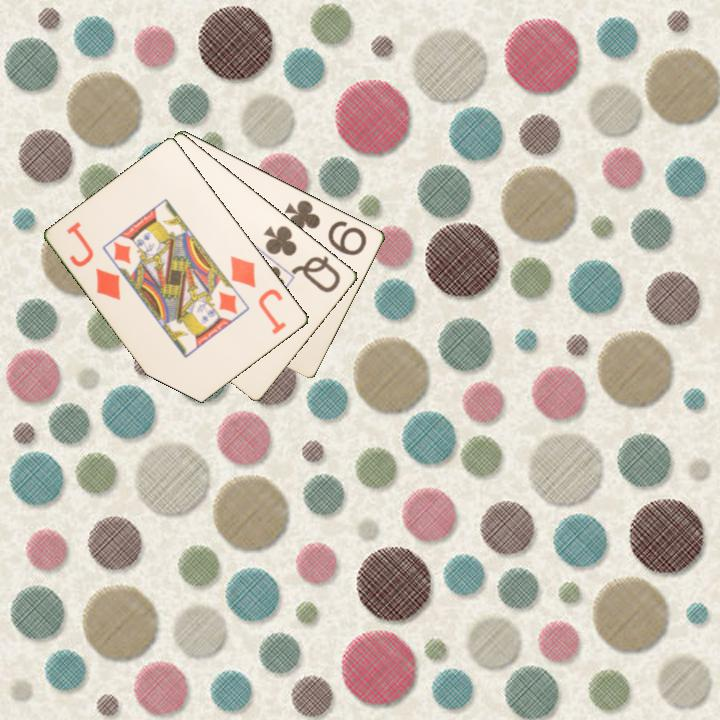9c: (281, 196, 370, 258)
Jd: (227, 252, 290, 338), (63, 218, 124, 304)
Qc: (260, 222, 344, 296)
